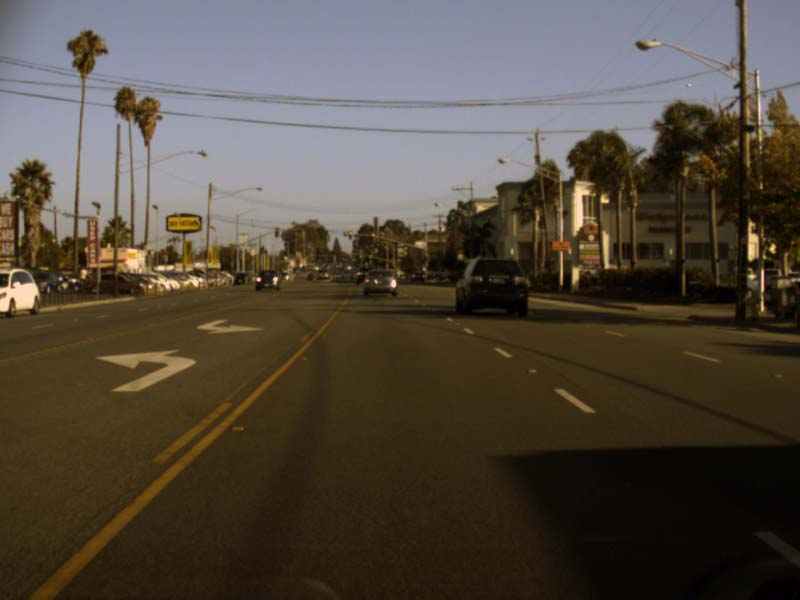Red: (348, 230, 352, 239), (370, 232, 374, 240)
